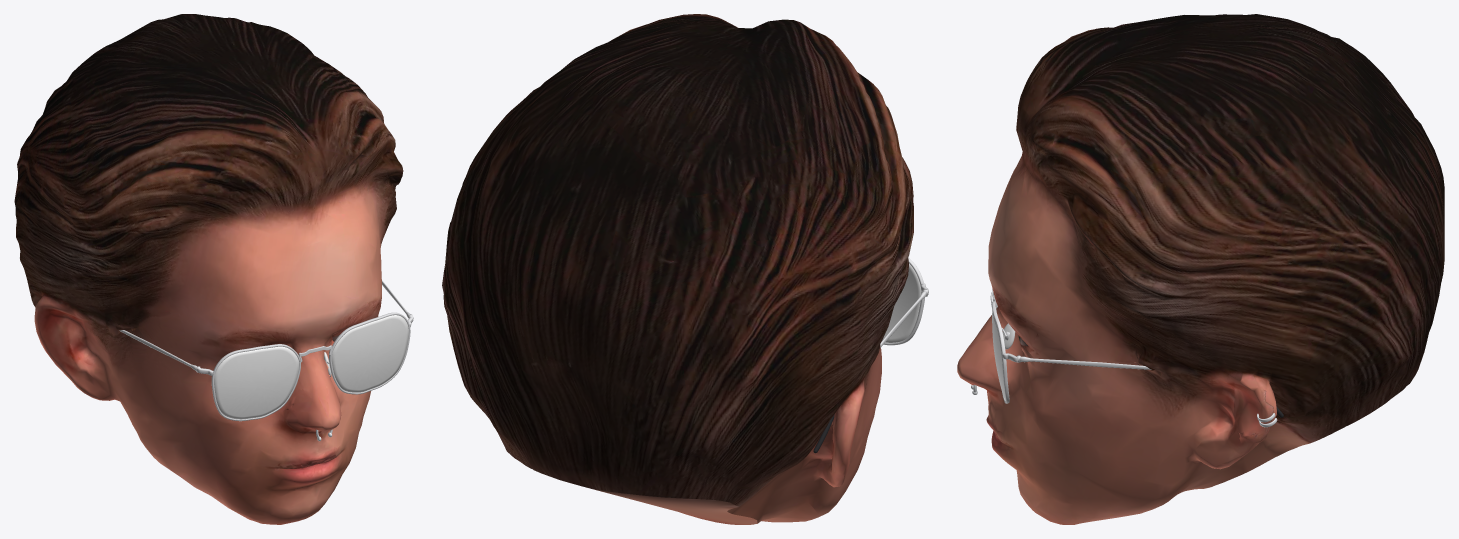
File: head-m.glb
The picture shows the model from 3 angles, left to right: view 1: azimuth 30°, elevation 25°; view 2: azimuth 150°, elevation 25°; view 3: azimuth 270°, elevation 25°; orthographic projection. The views are drawn at different scales.
Visible parts, largest first — view 1: Head, Glasses_Lenses, Glasses_Frame; view 2: Head, Glasses_Lenses; view 3: Head, Glasses_Temple_L, Glasses_Frame.
Part boxes in pixels (left/top/right/bottom): Head: left=14, top=14, right=403, bottom=524; Glasses_Lenses: left=214, top=315, right=408, bottom=419; Glasses_Frame: left=196, top=312, right=413, bottom=421; Head: left=442, top=14, right=913, bottom=524; Glasses_Lenses: left=882, top=263, right=921, bottom=342; Head: left=957, top=14, right=1444, bottom=524; Glasses_Temple_L: left=1015, top=356, right=1283, bottom=417; Glasses_Frame: left=992, top=299, right=1020, bottom=403.
Size of the model in its own units: 1.49 by 1.89 by 1.73.
18 materials, 6 textured.
